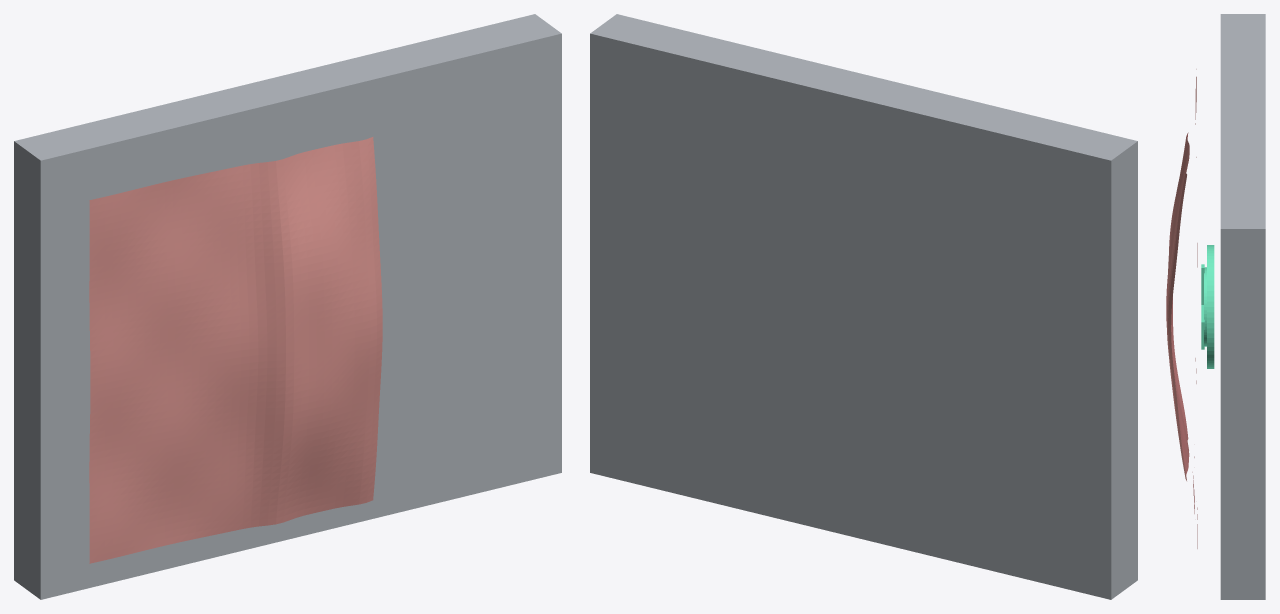
File: dranmar_exposure_tissue_initial.glb
The picture shows the model from 3 angles, left to right: view 1: azimuth 30°, elevation 25°; view 2: azimuth 150°, elevation 25°; view 3: azimuth 270°, elevation 25°; orthographic projection. The views are drawn at different scales.
Parts seen in each view (by area): view 1: tissue_base, left_flap; view 2: tissue_base; view 3: tissue_base, left_flap, roi, right_flap.
Boxes of the visible parts, <box> form: tissue_base: <box>14,14,561,599</box>; left_flap: <box>89,137,382,563</box>; tissue_base: <box>590,14,1137,599</box>; tissue_base: <box>1220,14,1265,599</box>; left_flap: <box>1167,69,1196,480</box>; roi: <box>1201,245,1214,368</box>; right_flap: <box>1166,132,1197,548</box>.
Bounding box in the file's own units: 0.18 × 0.145 × 0.0352.
